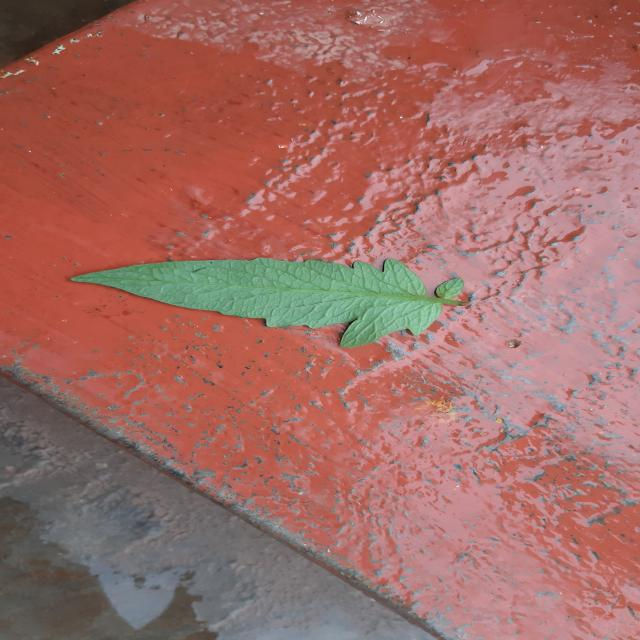tomato: (71, 258, 467, 348)
